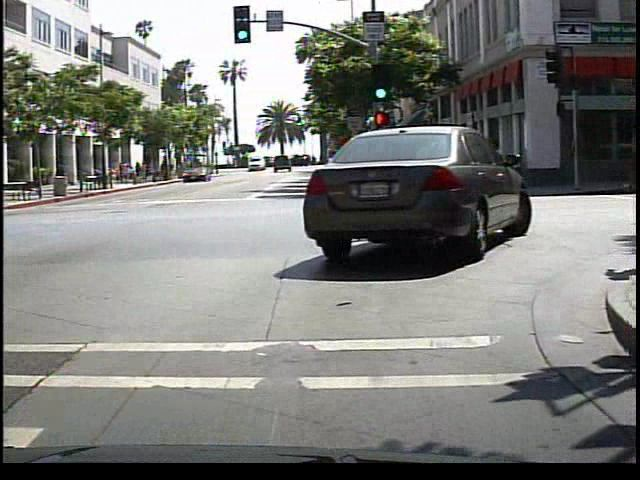person: (49, 160, 67, 191)
